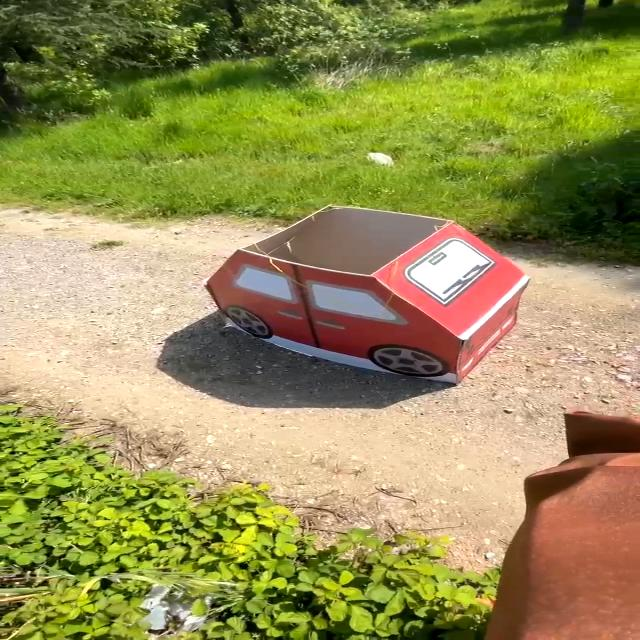red_car: (194, 205, 533, 383)
